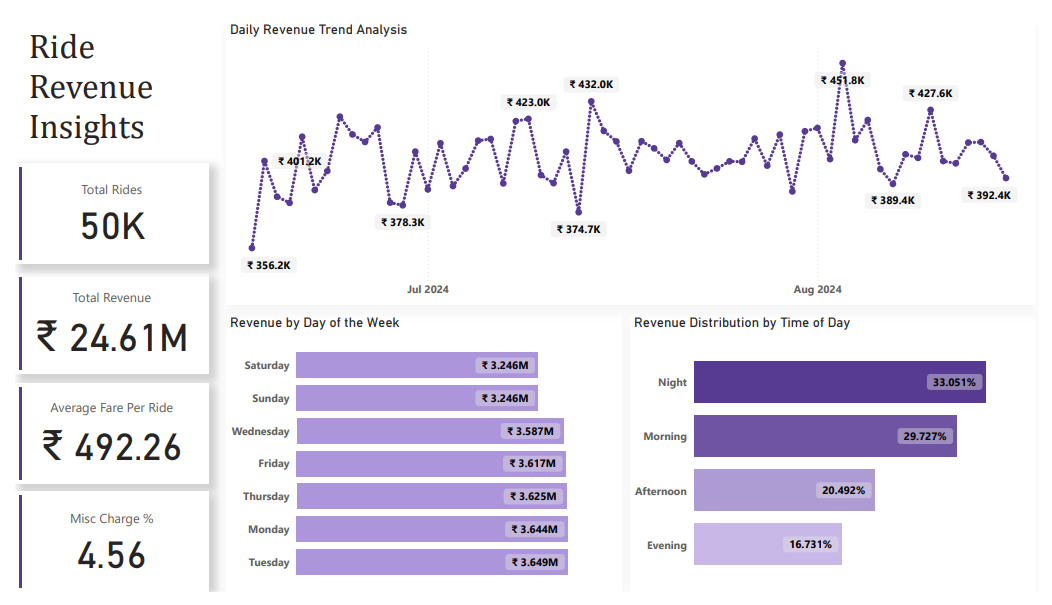

What the dashboard file says about the page in this screenshot:
{"tool":"powerbi","page":{"name":"Revenue","canvas":[1280,720],"ordinal":0},"visuals":[{"type":"cardVisual","fields":{"Data":["DAX.Total Revenue"]},"box":[0,322.6,241.9,125.3],"z":2000},{"type":"cardVisual","fields":{"Data":["DAX.Average Fare Per Ride"]},"box":[0,459.4,241.9,125.3],"z":3000},{"type":"cardVisual","fields":{"Data":["DAX.Total Rides"]},"box":[0,184.3,241.9,125.3],"z":4000},{"type":"barChart","title":"Revenue by Day of the Week","fields":{"Category":["rides_data.day name"],"Y":["DAX.Total Revenue"]},"box":[263.7,372.9,493.9,347.7],"z":5000},{"type":"barChart","title":"Revenue Distribution by Time of Day","fields":{"Category":["rides_data.day time"],"Y":["Divide(DAX.Total Revenue, ScopedEval(DAX.Total Revenue, []))"]},"box":[769.3,372.9,505.6,347.7],"z":6000},{"type":"lineChart","title":"Daily Revenue Trend Analysis","fields":{"Y":["DAX.Total Revenue"],"Category":["rides_data.date.Variation.Date Hierarchy.Year","rides_data.date.Variation.Date Hierarchy.Month","rides_data.date.Variation.Date Hierarchy.Day"]},"box":[263.7,6.7,1011.2,354.4],"z":7000},{"type":"cardVisual","fields":{"Data":["DAX.Misc Charge %"]},"box":[0,594.7,241.9,125.3],"z":7001},{"type":"textbox","box":[11.8,6.5,242.2,178],"z":7002}]}

Visuals, with their boxes in screenshot pixels (x1, y1, x2, y2), scaled from the page's 1280x720 canvas onto the 1052x605 screenshot:
cardVisual - DAX.Total Revenue: locate(0, 271, 199, 376)
cardVisual - DAX.Average Fare Per Ride: locate(0, 386, 199, 491)
cardVisual - DAX.Total Rides: locate(0, 155, 199, 260)
"Revenue by Day of the Week" barChart: locate(217, 313, 623, 604)
"Revenue Distribution by Time of Day" barChart: locate(632, 313, 1048, 604)
"Daily Revenue Trend Analysis" lineChart: locate(217, 6, 1048, 303)
cardVisual - DAX.Misc Charge %: locate(0, 500, 199, 604)
textbox: locate(10, 5, 209, 155)
